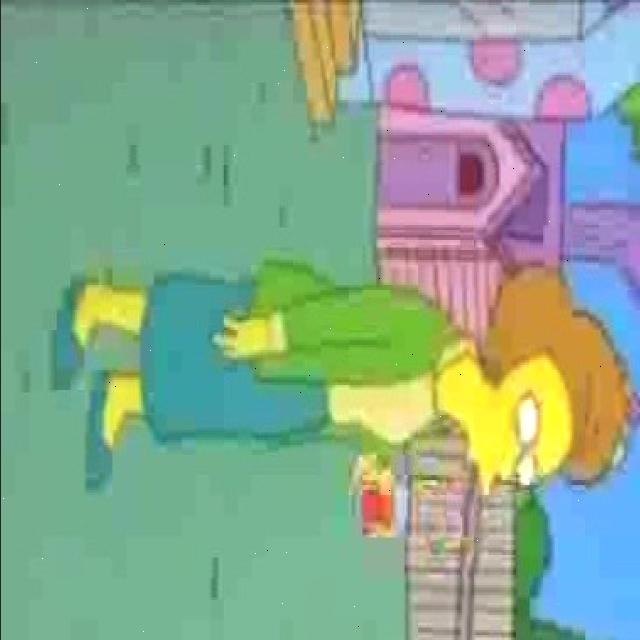Edna Krappel: (426, 258, 632, 502)
